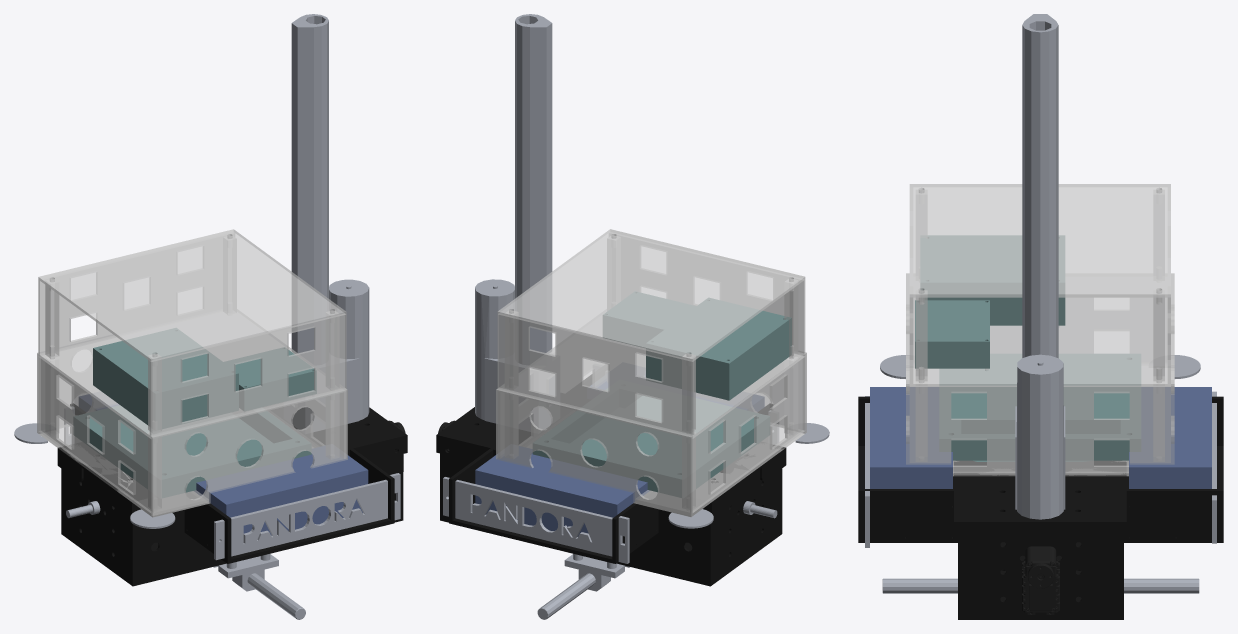
The picture shows the model from 3 angles, left to right: view 1: azimuth 30°, elevation 25°; view 2: azimuth 150°, elevation 25°; view 3: azimuth 270°, elevation 25°; orthographic projection. The views are drawn at different scales.
Visible parts, largest first — view 1: base_link; view 2: base_link; view 3: base_link.
Boxes of the visible parts, x1,y1,x2,y2 form: base_link: (14,14,407,619); base_link: (436,14,829,619); base_link: (858,14,1223,619).
Size of the model in its own units: 0.3745 by 0.3077 by 0.5751.
